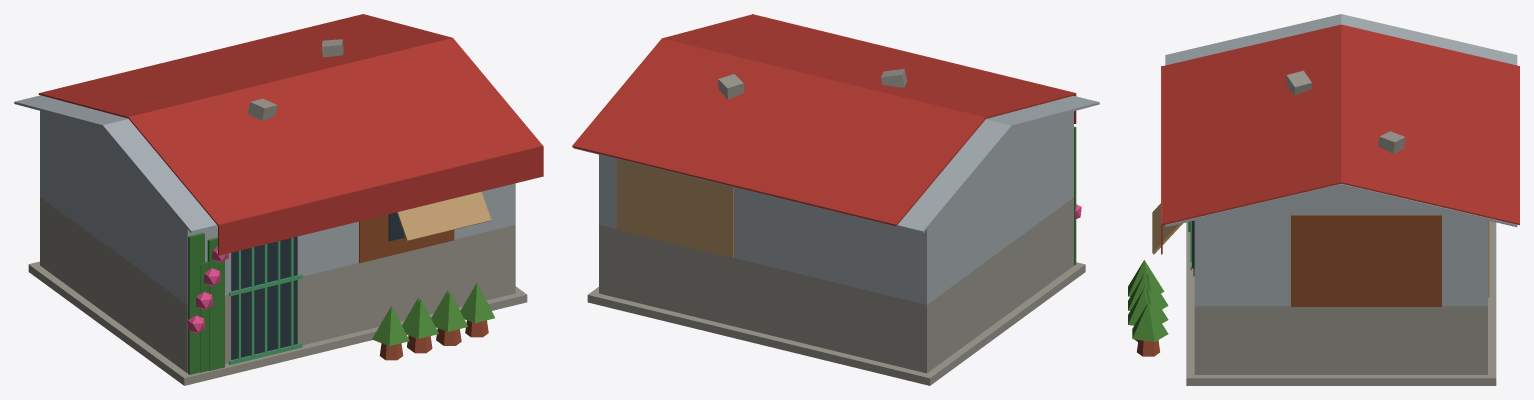
The model's file is BAY_I_TarpShack_S.glb.
3 views of the same model, side by side, from view 1: azimuth 30°, elevation 25°; view 2: azimuth 150°, elevation 25°; view 3: azimuth 270°, elevation 25° (orthographic).
Visible parts, largest first — view 1: BAY_I_TarpShack_S; view 2: BAY_I_TarpShack_S; view 3: BAY_I_TarpShack_S.
Boxes of the visible parts, x1,y1,x2,y2 form: BAY_I_TarpShack_S: [14, 14, 543, 385]; BAY_I_TarpShack_S: [572, 14, 1099, 385]; BAY_I_TarpShack_S: [1128, 14, 1519, 385].
Size of the model in its own units: 4.8 by 2.76 by 4.67.
Materials: 1 (1 with a texture image).
